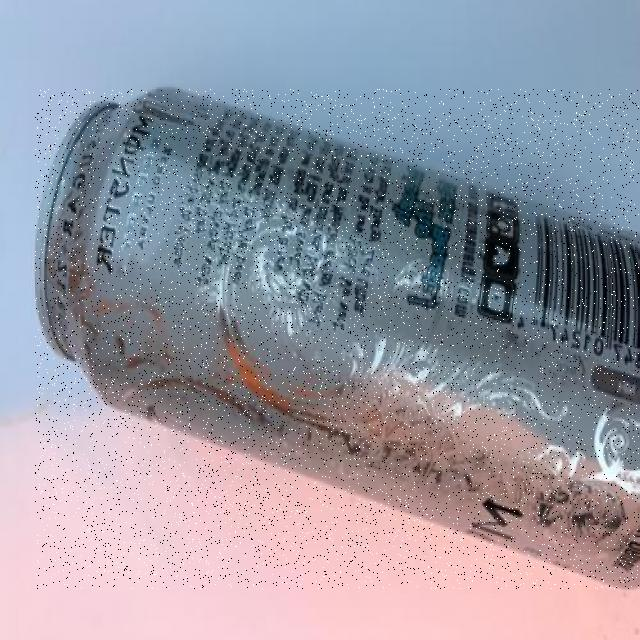metal: (36, 89, 639, 588)
